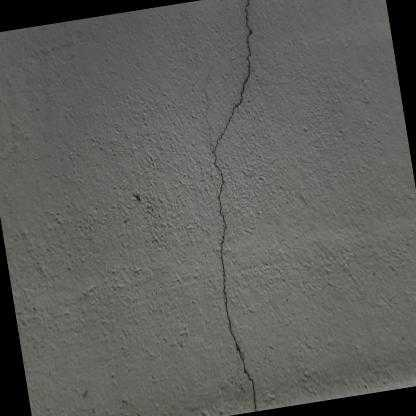crack: (210, 0, 256, 411)
